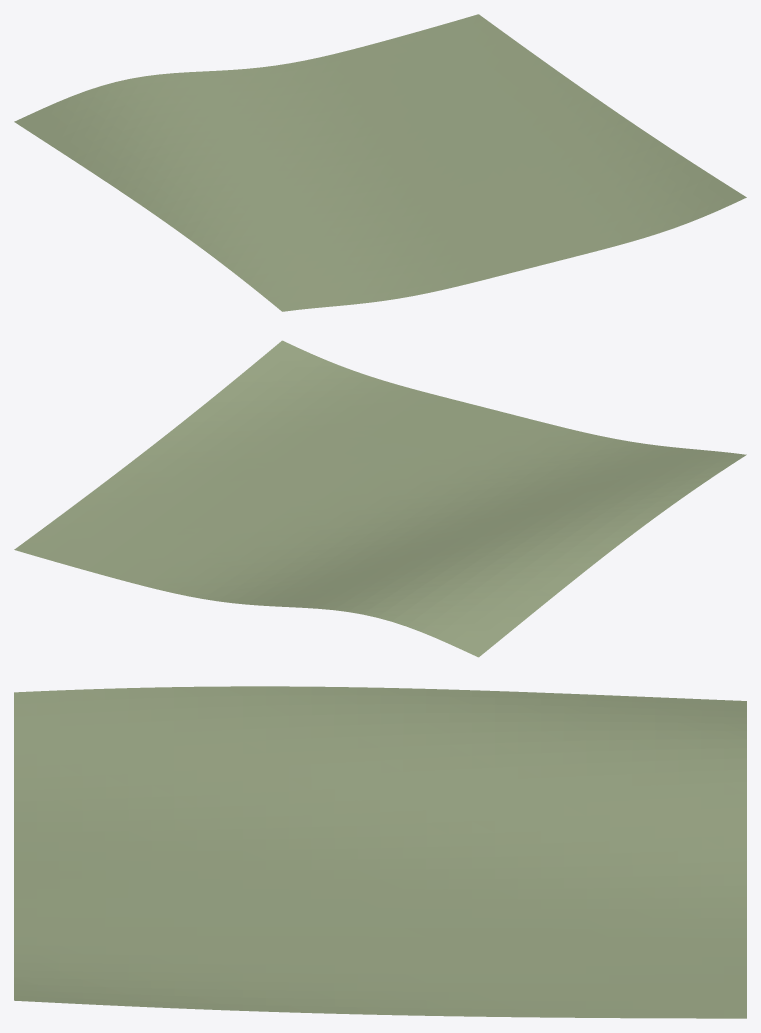
Rendered from desert-2-6.glb.
3 views of the same model, one above another, from view 1: azimuth 30°, elevation 25°; view 2: azimuth 150°, elevation 25°; view 3: azimuth 270°, elevation 25° (orthographic). The views are drawn at different scales.
Parts seen in each view (by area): view 1: desert-2-6; view 2: desert-2-6; view 3: desert-2-6.
Part boxes in pixels (x1=…): desert-2-6: x1=14, y1=14, x2=746, y2=311; desert-2-6: x1=14, y1=340, x2=746, y2=657; desert-2-6: x1=14, y1=686, x2=746, y2=1018.
Size of the model in its own units: 512 by 27.46 by 512.
